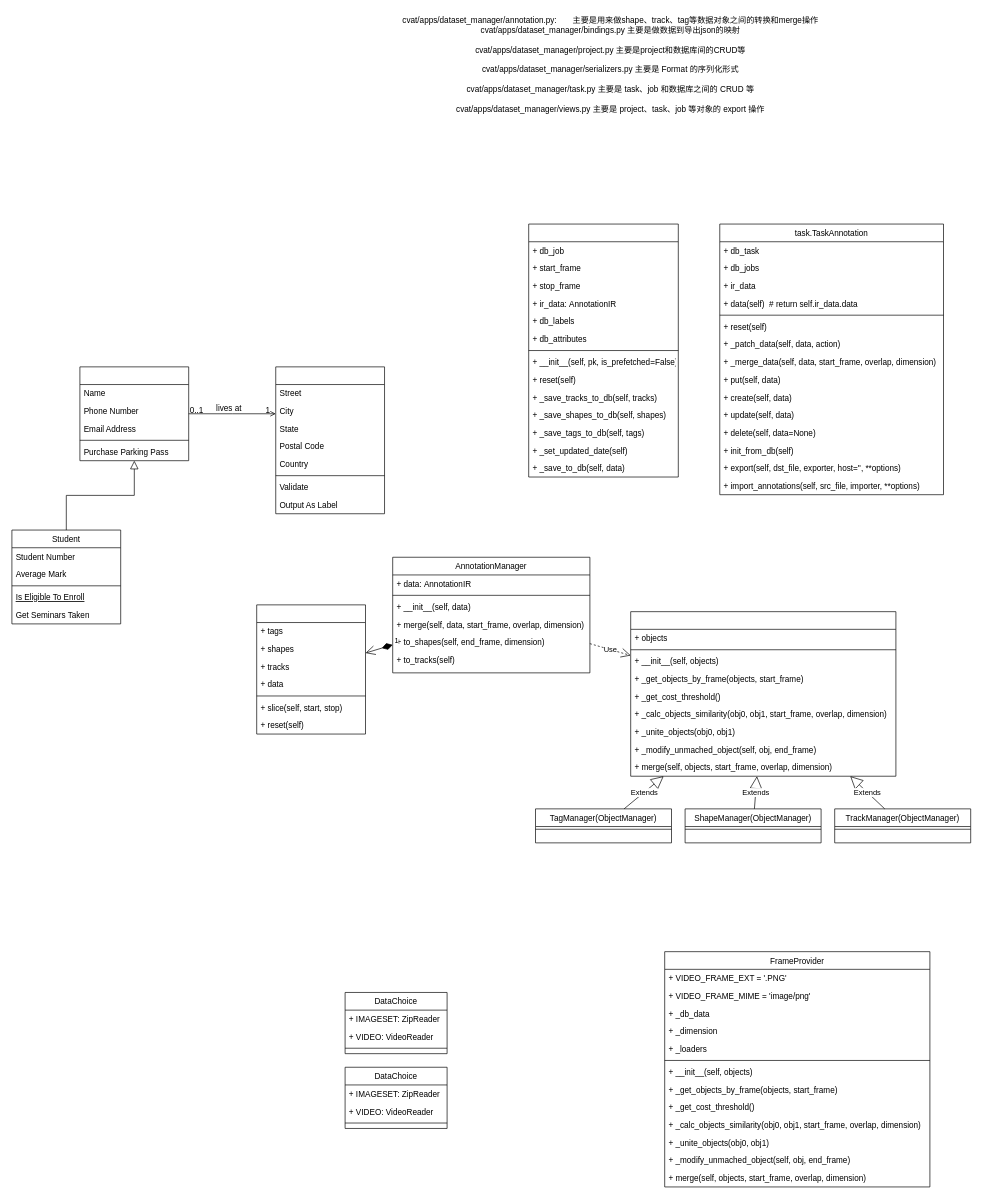
The diagram is 983 pixels wide and 1200 high, and some of its shapes have lost their labels. The box of each missing label's shape, as (x1, y1, x2, y2) in pixels:
Address: (275, 366, 385, 514)
AnnotationIR: (256, 604, 366, 734)
ObjectManager: (630, 611, 896, 776)
Person: (79, 366, 189, 461)
task.JobAnnotation: (528, 223, 678, 477)
